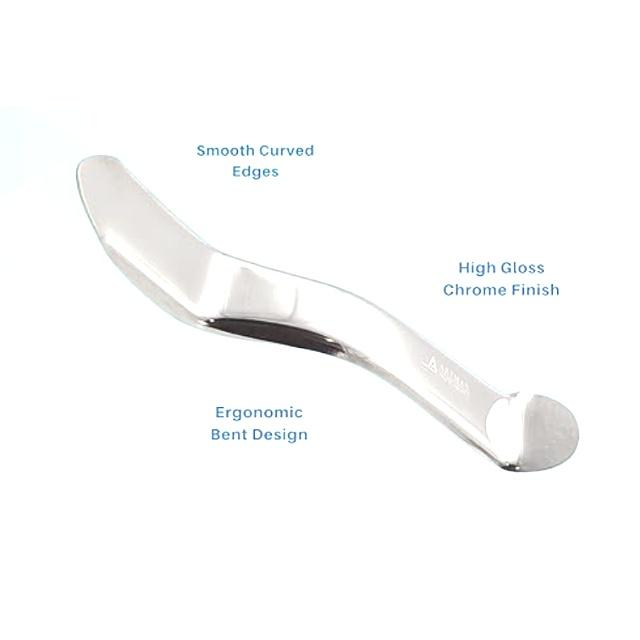separador: (73, 155, 582, 475)
